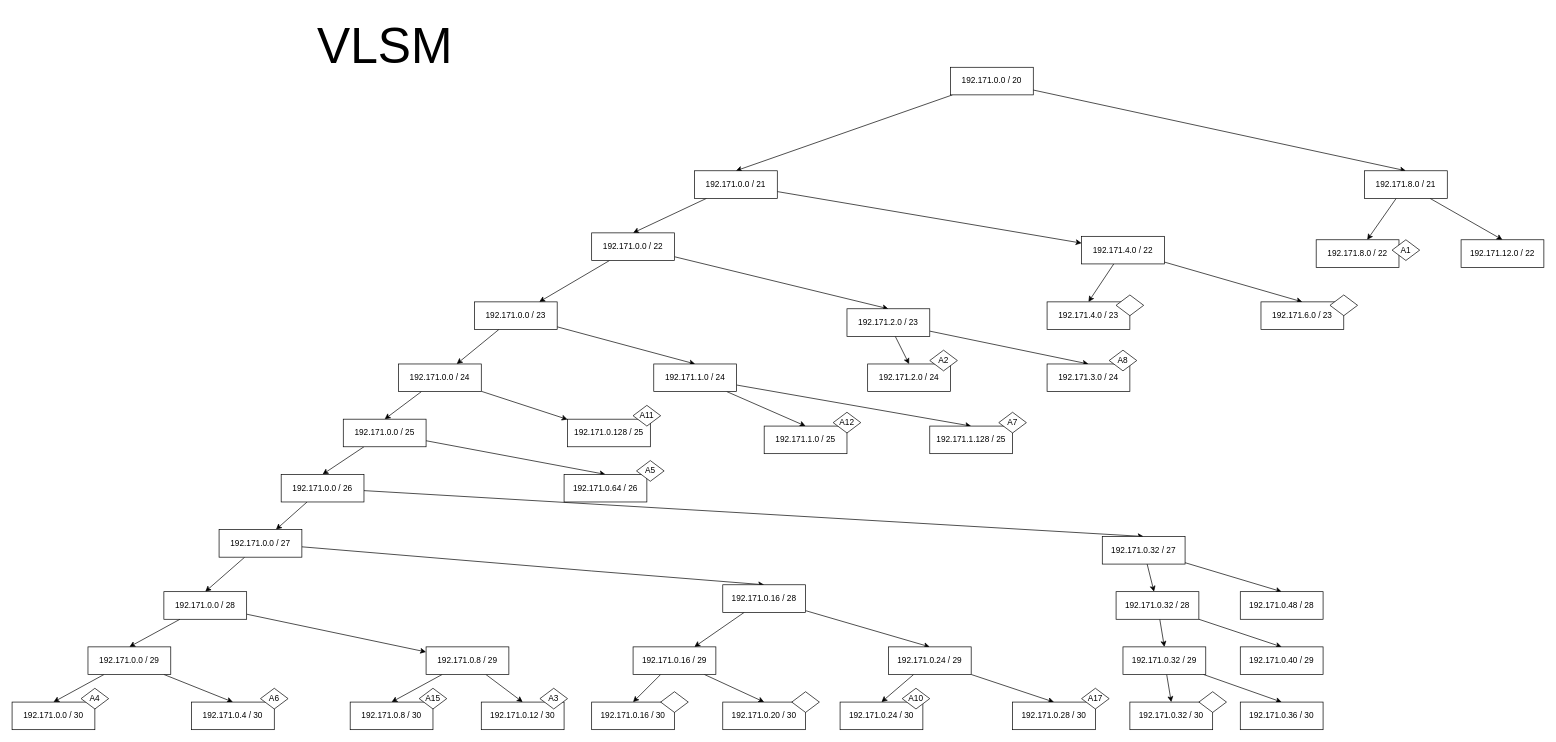
This 1556x742 diagram has some shape labels left out. The shapes that lost their labels are listed below. From the top down, each one's box as (x1, y1, x2, y2) in pixels, then its label:
(1115, 294, 1144, 316): A9
(1329, 294, 1358, 316): A16
(660, 691, 688, 712): A14
(791, 691, 819, 712): A13
(1198, 691, 1226, 712): A18
